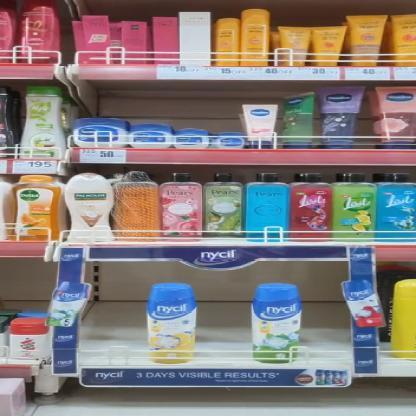Nycil Prickly Heat Powder: (152, 284, 200, 361), (252, 284, 300, 360)
